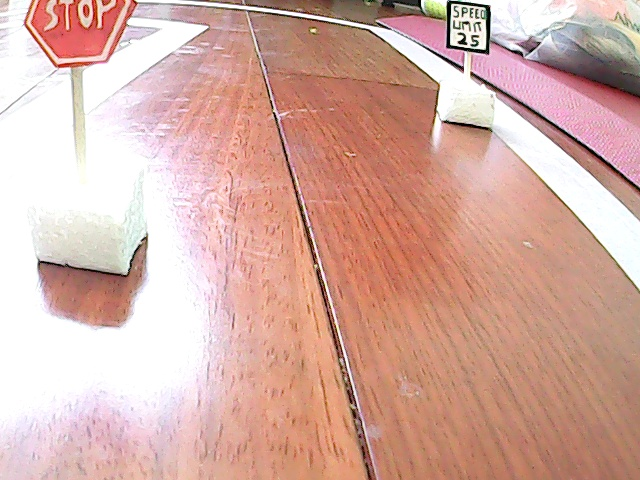speed_25: (423, 1, 501, 131)
stop: (19, 1, 160, 271)
